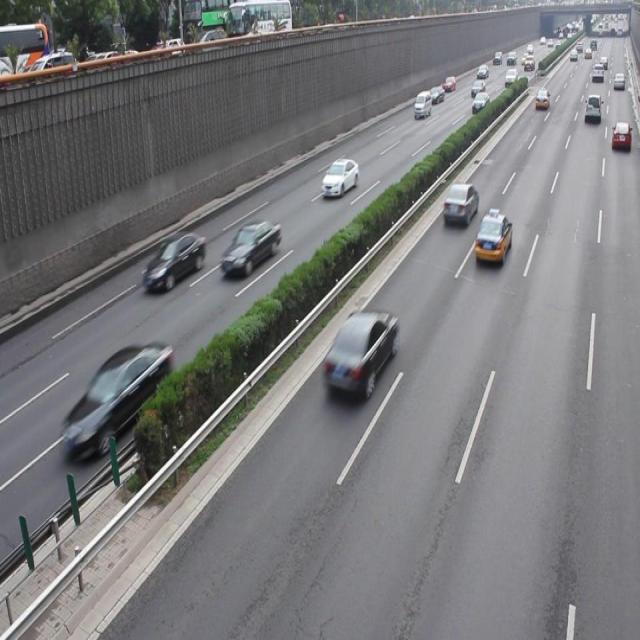car: (60, 338, 171, 461), (320, 307, 398, 401), (142, 230, 206, 294), (218, 217, 282, 278), (472, 211, 511, 265), (320, 156, 358, 198), (442, 181, 477, 226)
